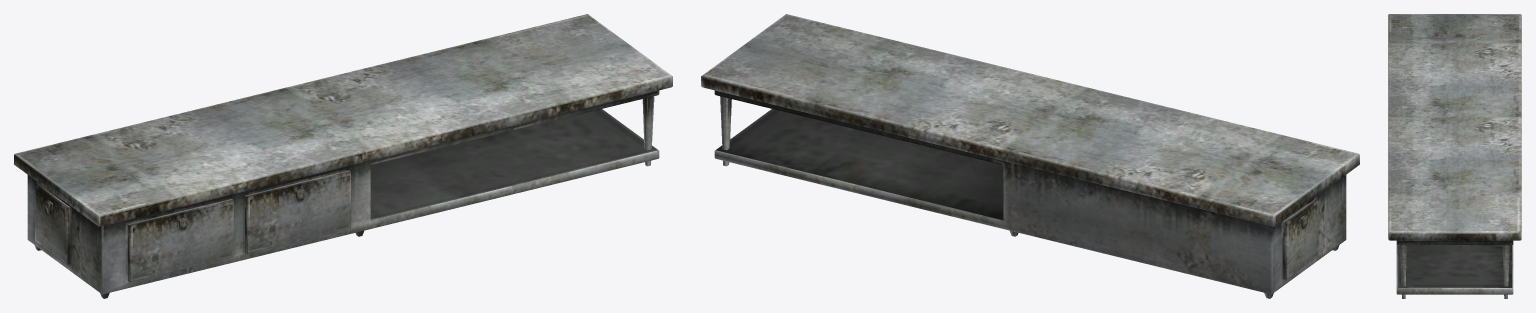
The model's file is AA_Kitchen_CounterB_St.obj.
3 renders of one model, left to right at view 1: azimuth 30°, elevation 25°; view 2: azimuth 150°, elevation 25°; view 3: azimuth 270°, elevation 25°, orthographic. The views are drawn at different scales.
Parts seen in each view (by area): view 1: AA_Kitchen_CounterB_St; view 2: AA_Kitchen_CounterB_St; view 3: AA_Kitchen_CounterB_St.
Part boxes in pixels (left/top/right/bottom): AA_Kitchen_CounterB_St: left=14, top=14, right=672, bottom=298; AA_Kitchen_CounterB_St: left=701, top=14, right=1359, bottom=298; AA_Kitchen_CounterB_St: left=1388, top=14, right=1521, bottom=298.
Bounding box in the file's own units: 623 × 96 × 161.
